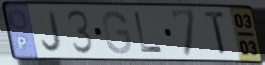3: (66, 8, 95, 56)
7: (169, 7, 199, 60)
G: (100, 9, 134, 57)
J: (40, 10, 63, 54)
L: (132, 11, 165, 55)
T: (203, 9, 228, 58)
